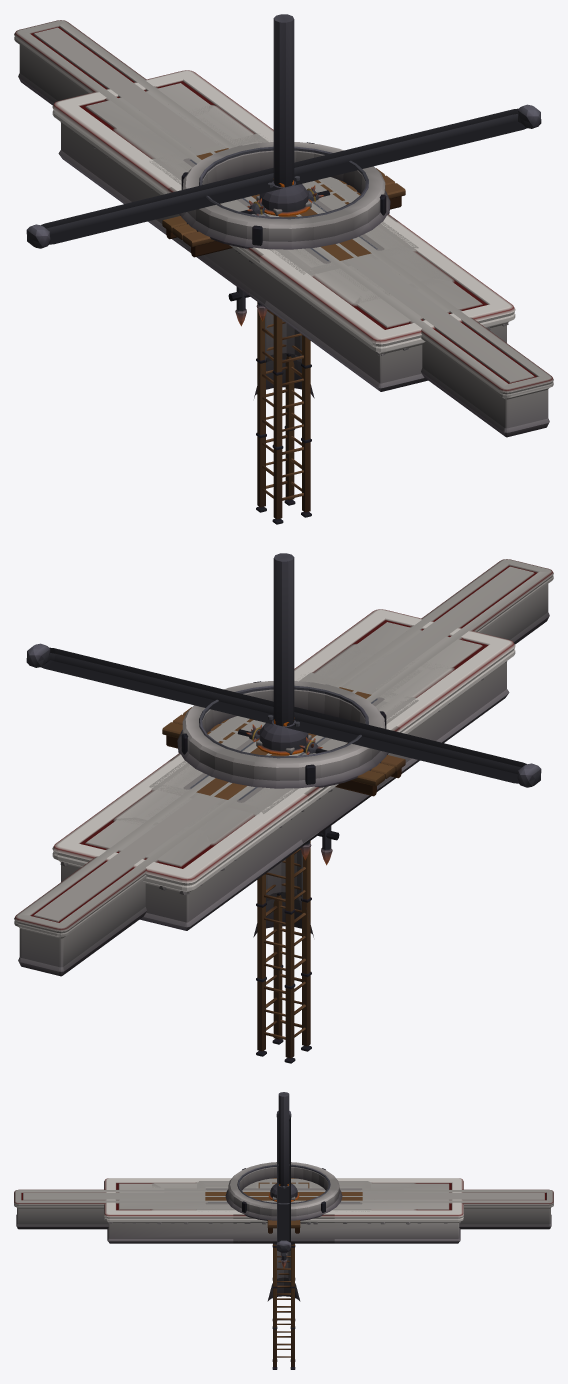
Rendered from fortress-3-4RkaQ8Kl.glb.
3 renders of one model, top to bottom at view 1: azimuth 30°, elevation 25°; view 2: azimuth 150°, elevation 25°; view 3: azimuth 270°, elevation 25°, orthographic. The views are drawn at different scales.
Parts seen in each view (by area): view 1: block_8x2x32_grate#0, block_3x2x48#0, mount_13.8#0, geyserVent_8#0, truss_16#0, block_6x2x24#0, press_6x6x2#0, block_7x2x16_ice#0, beam_12x1.5x3#0, support_0_round#0, block_8x2x7#0, barHub_6x1.2#0 (+2 smaller); view 2: block_8x2x32_grate#0, block_3x2x48#0, mount_13.8#0, geyserVent_8#0, truss_16#0, block_6x2x24#0, press_6x6x2#0, block_7x2x16_ice#0, beam_12x1.5x3#0, support_0_round#0, block_8x2x7#0, barHub_6x1.2#0 (+2 smaller); view 3: block_8x2x32_grate#0, block_3x2x48#0, geyserVent_8#0, truss_16#0, mount_13.8#0, press_6x6x2#0, block_8x2x7#0, beam_2x1.5x14#0, support_0_round#0, block_6x2x24#0, block_7x2x16_ice#0, belt_3.5x1.5x14x0#0 (+1 smaller).
Part boxes in pixels (<box>): block_8x2x32_grate#0: <box>52,70,515,391</box>; block_3x2x48#0: <box>14,20,553,437</box>; mount_13.8#0: <box>26,104,541,248</box>; geyserVent_8#0: <box>179,142,390,249</box>; truss_16#0: <box>256,195,311,524</box>; block_6x2x24#0: <box>112,104,455,306</box>; press_6x6x2#0: <box>228,14,294,326</box>; block_7x2x16_ice#0: <box>149,133,418,277</box>; beam_12x1.5x3#0: <box>162,168,405,257</box>; support_0_round#0: <box>254,311,314,398</box>; block_8x2x7#0: <box>187,177,359,297</box>; barHub_6x1.2#0: <box>240,179,330,216</box>; block_8x2x32_grate#0: <box>52,609,515,930</box>; block_3x2x48#0: <box>14,559,553,976</box>; mount_13.8#0: <box>26,643,541,787</box>; geyserVent_8#0: <box>177,681,388,788</box>; truss_16#0: <box>256,734,311,1063</box>; block_6x2x24#0: <box>112,643,455,845</box>; press_6x6x2#0: <box>273,553,339,865</box>; block_7x2x16_ice#0: <box>149,672,418,816</box>; beam_12x1.5x3#0: <box>162,707,405,796</box>; support_0_round#0: <box>253,850,313,937</box>; block_8x2x7#0: <box>208,716,380,836</box>; barHub_6x1.2#0: <box>237,718,327,755</box>; block_8x2x32_grate#0: <box>104,1178,463,1243</box>; block_3x2x48#0: <box>14,1189,553,1229</box>; geyserVent_8#0: <box>225,1162,342,1220</box>; truss_16#0: <box>272,1196,295,1369</box>; mount_13.8#0: <box>276,1111,291,1252</box>; press_6x6x2#0: <box>278,1092,289,1268</box>; block_8x2x7#0: <box>247,1178,320,1243</box>; beam_2x1.5x14#0: <box>205,1192,362,1200</box>; support_0_round#0: <box>267,1250,300,1301</box>; block_6x2x24#0: <box>150,1183,417,1210</box>; block_7x2x16_ice#0: <box>195,1181,372,1211</box>; belt_3.5x1.5x14x0#0: <box>205,1188,362,1204</box>.
Bounding box in the file's own units: 28.5 × 26.58 × 48.
